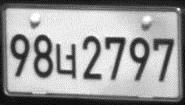2: (81, 34, 103, 81)
7: (151, 37, 175, 82), (103, 36, 127, 80)
8: (33, 34, 54, 78)
9: (129, 36, 151, 82), (9, 33, 30, 78)
너: (55, 42, 77, 80)
